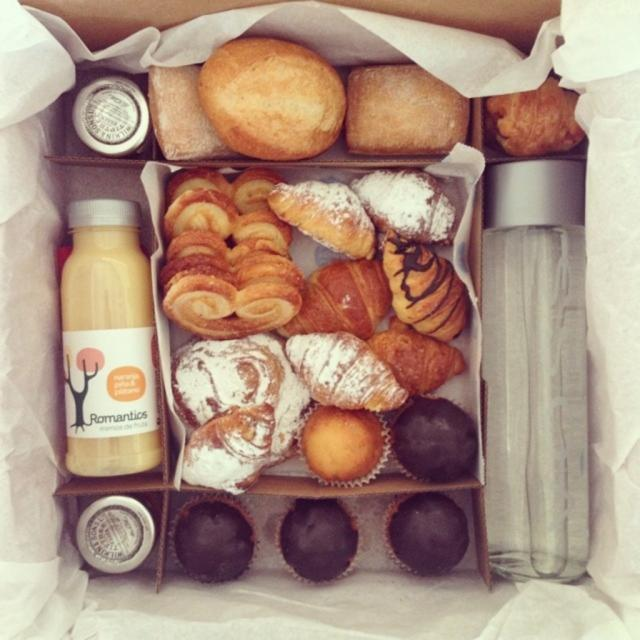Croissant: (385, 227, 469, 347), (286, 332, 406, 412), (179, 404, 276, 494), (272, 179, 376, 261), (349, 170, 460, 245), (359, 318, 468, 394)
